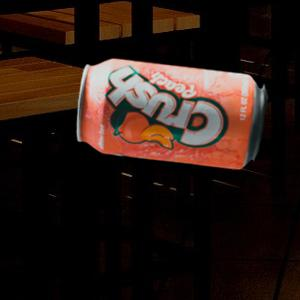can: (75, 57, 265, 172)
